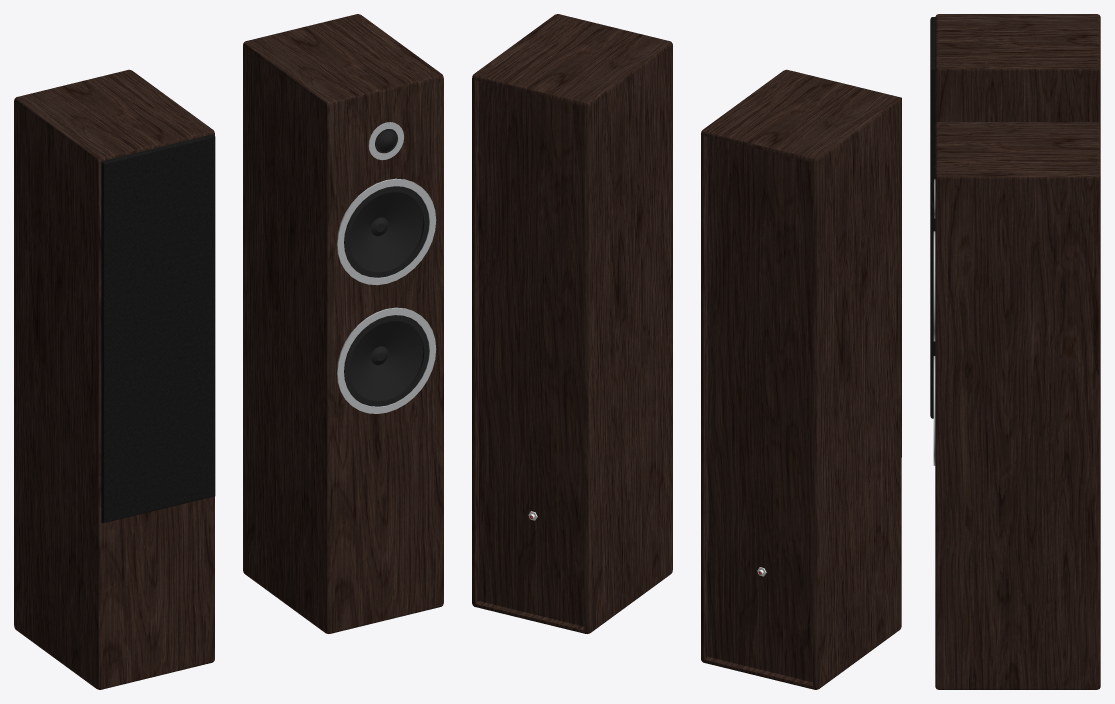
Rendered from speakers_tower.glb.
3 views of the same model, side by side, from view 1: azimuth 30°, elevation 25°; view 2: azimuth 150°, elevation 25°; view 3: azimuth 270°, elevation 25° (orthographic). The views are drawn at different scales.
Parts seen in each view (by area): view 1: speakers_tower; view 2: speakers_tower; view 3: speakers_tower.
Boxes of the visible parts, left/top/right/bottom form: speakers_tower: left=14, top=14, right=443, bottom=689; speakers_tower: left=472, top=14, right=901, bottom=689; speakers_tower: left=930, top=14, right=1100, bottom=689.
Size of the model in its own units: 0.6818 by 1 by 0.2995.
Materials: 2 (2 with a texture image).
